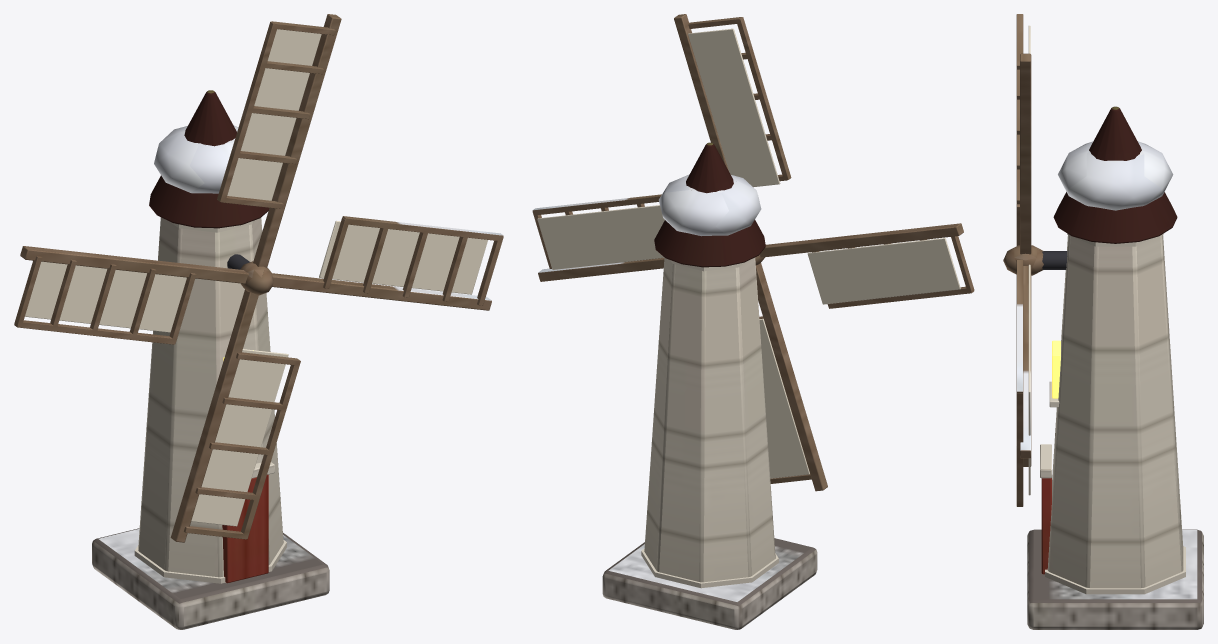
The model's file is unlock-windmill-dong.glb.
The picture shows the model from 3 angles, left to right: view 1: azimuth 30°, elevation 25°; view 2: azimuth 150°, elevation 25°; view 3: azimuth 270°, elevation 25°; orthographic projection. The views are drawn at different scales.
Visible parts, largest first — view 1: pivot-mesh, unlock-windmill-static; view 2: unlock-windmill-static, pivot-mesh; view 3: unlock-windmill-static, pivot-mesh.
Boxes of the visible parts, x1,y1,x2,y2 form: pivot-mesh: (14,14,503,542); unlock-windmill-static: (92,90,329,629); unlock-windmill-static: (602,142,817,629); pivot-mesh: (532,14,974,491); unlock-windmill-static: (1027,106,1203,629); pivot-mesh: (1003,14,1043,506).
Bounding box in the file's own units: 1.74 × 2.02 × 0.625.
Materials: 17 (14 with a texture image).
